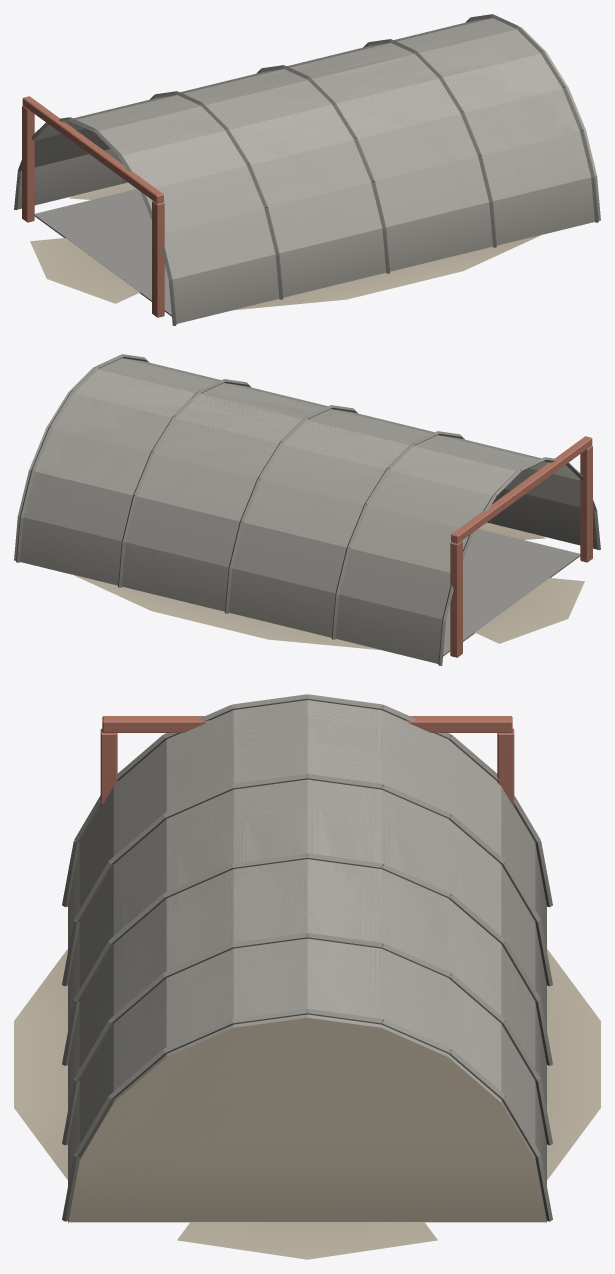
File: hangar.glb
The picture shows the model from 3 angles, top to bottom: view 1: azimuth 30°, elevation 25°; view 2: azimuth 150°, elevation 25°; view 3: azimuth 270°, elevation 25°; orthographic projection. The views are drawn at different scales.
Parts seen in each view (by area): view 1: hangar; view 2: hangar; view 3: hangar.
Boxes of the visible parts, x1=… form: hangar: x1=14, y1=14, x2=600, y2=325; hangar: x1=14, y1=354, x2=600, y2=665; hangar: x1=14, y1=694, x2=600, y2=1259.
Size of the model in its own units: 27 by 6.87 by 17.16.
